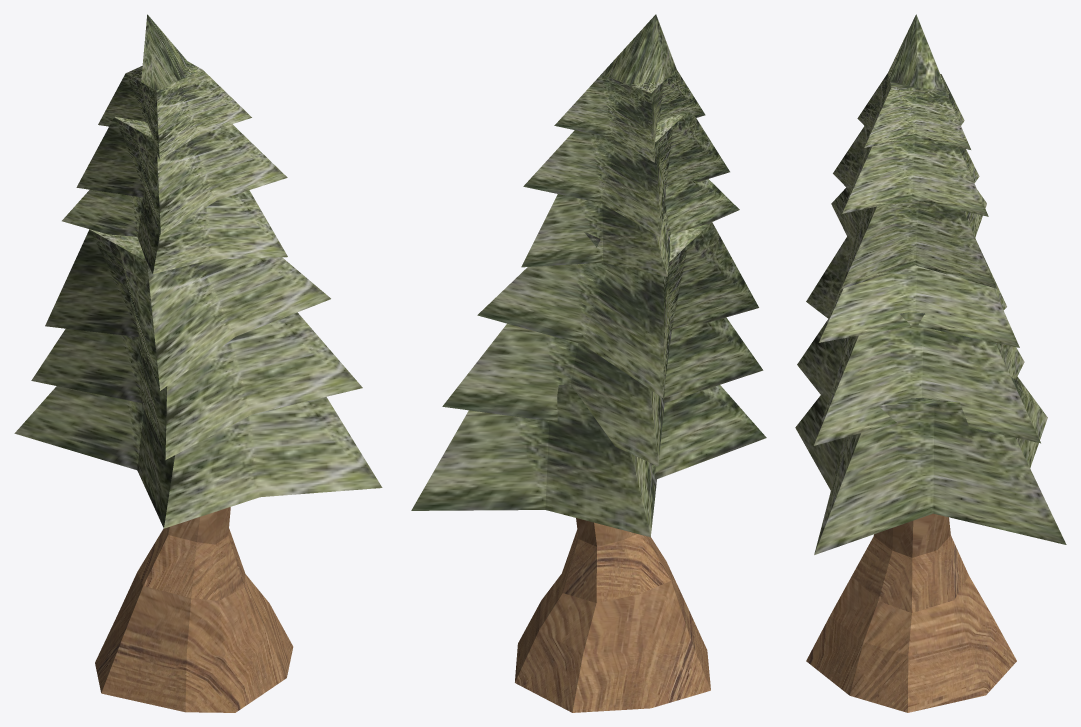
File: crappy_tree01 1.fbx
The picture shows the model from 3 angles, left to right: view 1: azimuth 30°, elevation 25°; view 2: azimuth 150°, elevation 25°; view 3: azimuth 270°, elevation 25°; orthographic projection. The views are drawn at different scales.
Parts seen in each view (by area): view 1: Cube.001; view 2: Cube.001; view 3: Cube.001.
Part boxes in pixels (box(x1,y1,x2,y2)): Cube.001: box(14, 14, 382, 712); Cube.001: box(411, 14, 766, 712); Cube.001: box(795, 14, 1066, 712).
Size of the model in its own units: 213 by 551 by 214.
